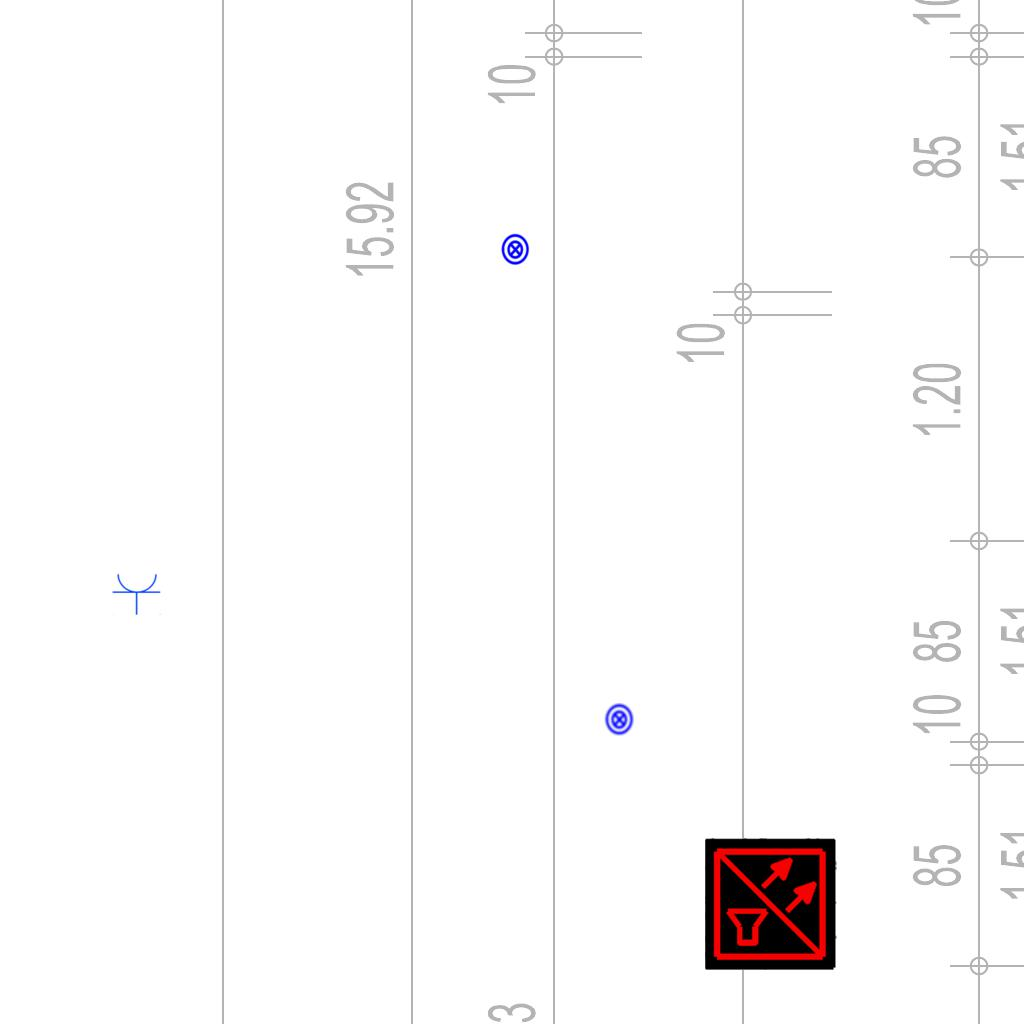OKW_Multisensormelder_(Kombination_optischer_Rauch-Kahlenmonoxid_Waerme-Melder): (705, 838, 837, 970)
Schukosteckdose_einfach: (112, 572, 162, 615)
Taster_beleuchtet: (499, 233, 532, 266), (603, 703, 636, 736)
